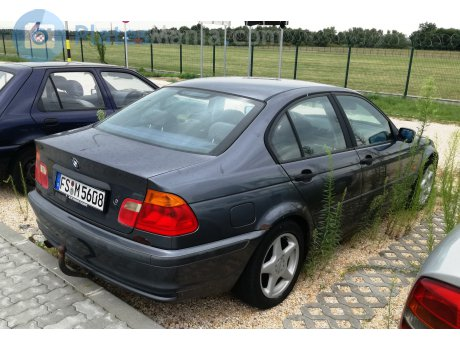License Plates: (55, 173, 89, 194)
